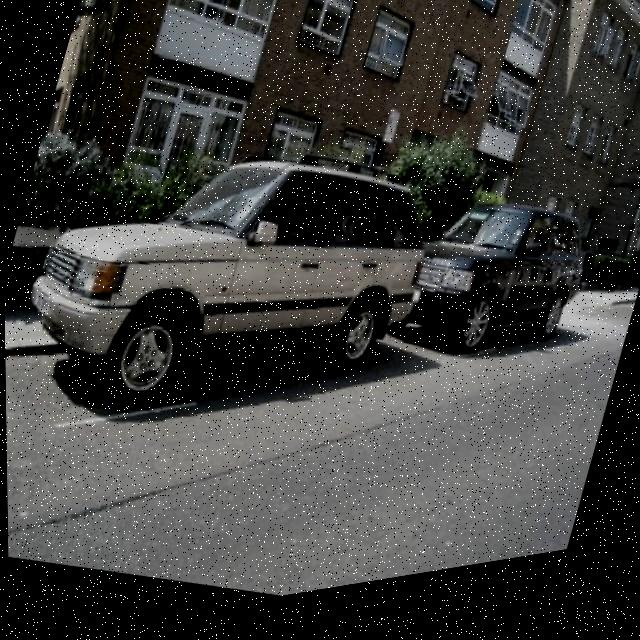license_plate: (28, 288, 52, 322), (409, 302, 420, 317)
